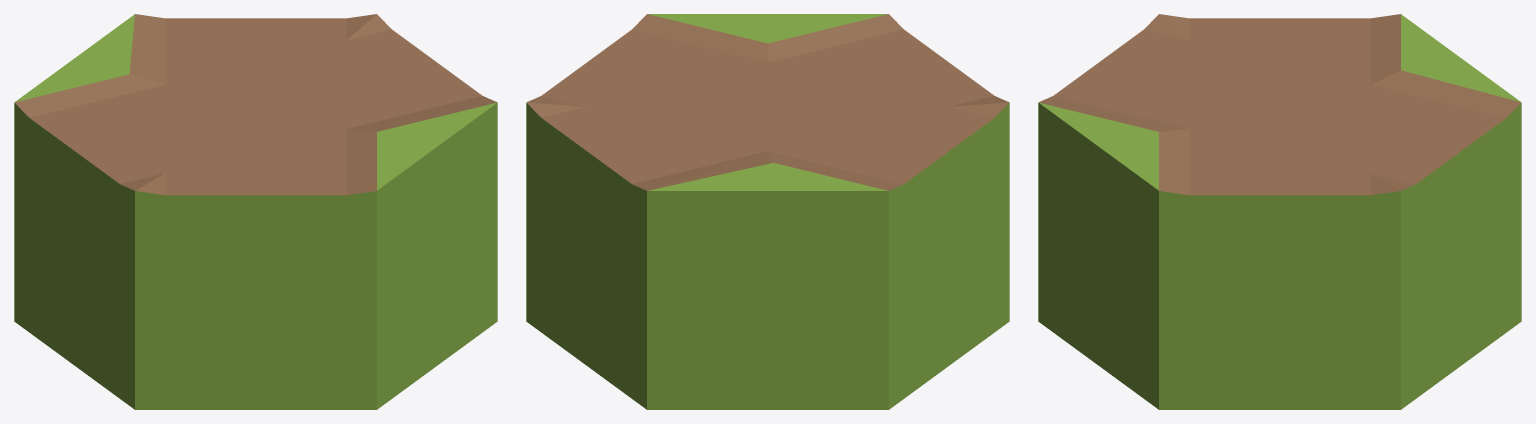
File: road6.fbx
3 renders of one model, left to right at view 1: azimuth 30°, elevation 25°; view 2: azimuth 150°, elevation 25°; view 3: azimuth 270°, elevation 25°, orthographic.
Parts seen in each view (by area): view 1: Cylinder; view 2: Cylinder; view 3: Cylinder.
Boxes of the visible parts, left/top/right/bottom form: Cylinder: left=14, top=14, right=497, bottom=409; Cylinder: left=526, top=14, right=1009, bottom=409; Cylinder: left=1038, top=14, right=1521, bottom=409.
Size of the model in its own units: 1.73 by 1 by 2.
